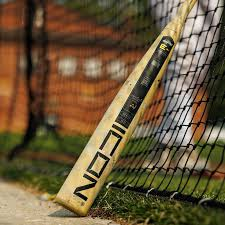baseball bat: (53, 1, 200, 216)
